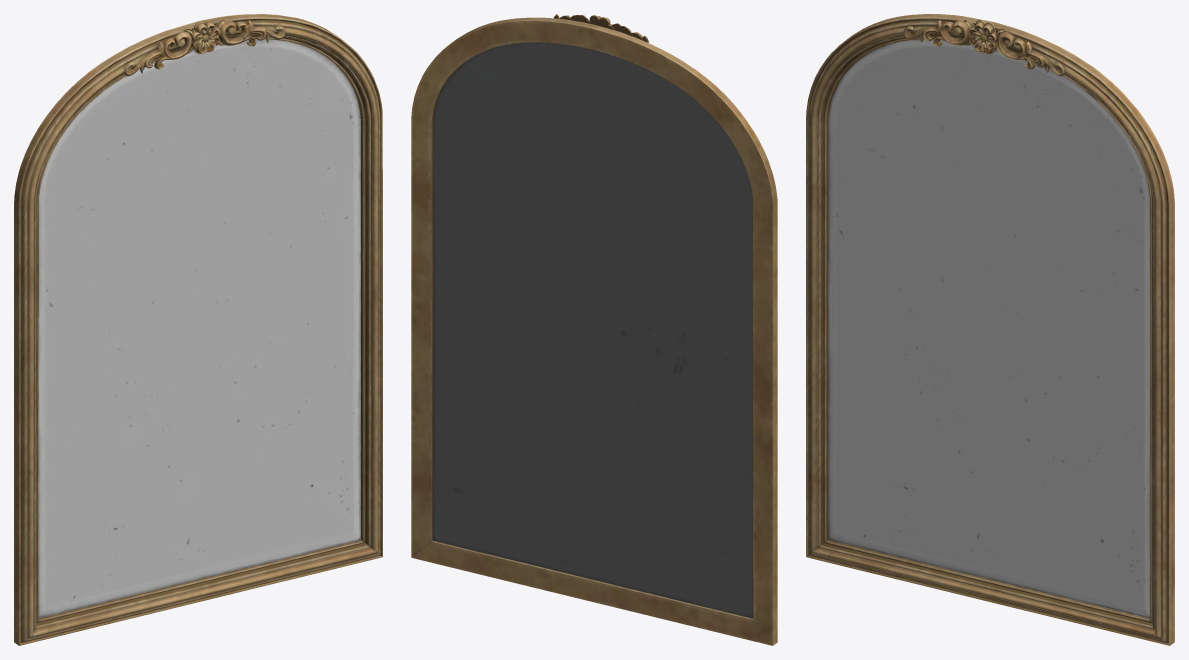
The model's file is mirror.glb.
3 views of the same model, side by side, from view 1: azimuth 30°, elevation 25°; view 2: azimuth 150°, elevation 25°; view 3: azimuth 330°, elevation 25° (orthographic).
Visible parts, largest first — view 1: ornate_mirror_01; view 2: ornate_mirror_01; view 3: ornate_mirror_01.
Part boxes in pixels (<box>): ornate_mirror_01: <box>14,14,382,645</box>; ornate_mirror_01: <box>411,14,777,645</box>; ornate_mirror_01: <box>806,14,1174,645</box>.
Size of the model in its own units: 0.4865 by 0.7442 by 0.0259.
Materials: 1 (1 with a texture image).
